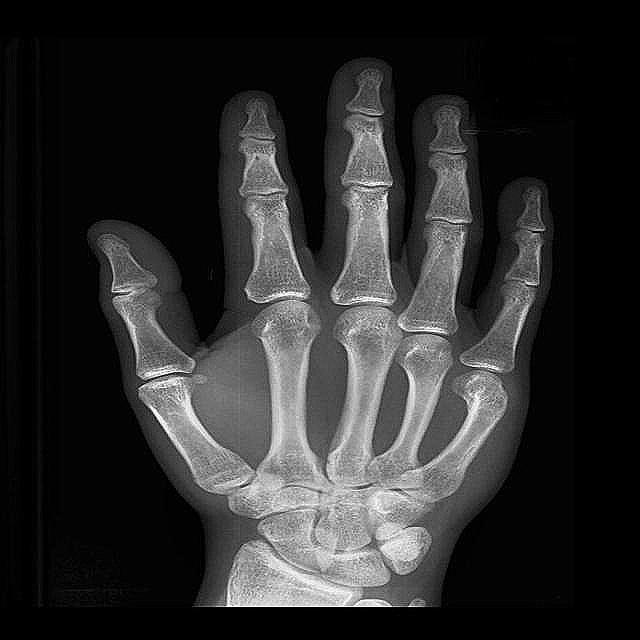bone: (456, 376, 509, 421)
